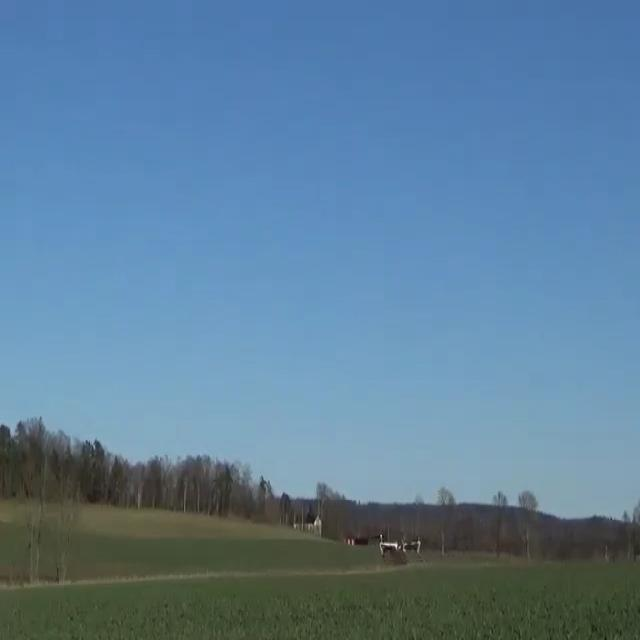Drone: (368, 520, 434, 572)
